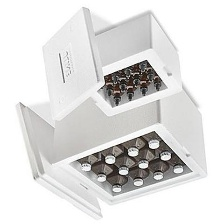foam_box: (9, 82, 211, 224), (37, 3, 186, 124)
